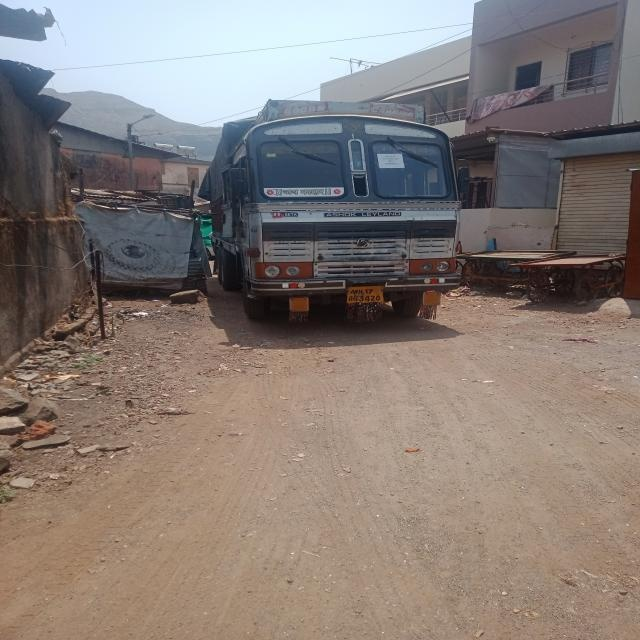Truck: (196, 99, 471, 328)
